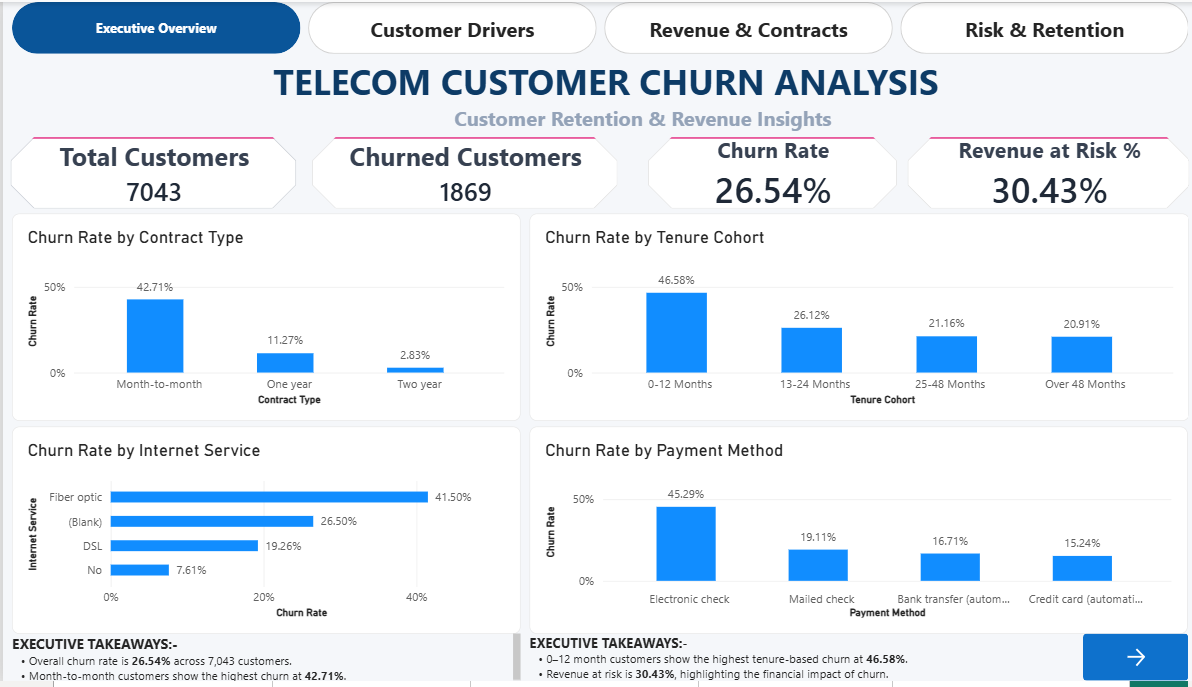

The dashboard page shown, as its layout file describes it:
{"tool":"powerbi","page":{"name":"Executive Overview","canvas":[1280,720],"ordinal":0},"visuals":[{"type":"textbox","box":[9,59,1259.8,82.7],"z":0},{"type":"cardVisual","title":"Total Customers","fields":{"Data":["_Measures.Total Customers"]},"box":[8,143,303.8,76.3],"z":1000},{"type":"cardVisual","title":"Churn Rate","fields":{"Data":["_Measures.Churn Rate"]},"box":[684,143.2,264,76.3],"z":2000},{"type":"cardVisual","title":"Revenue at Risk","fields":{"Data":["_Measures.Revenue at Risk %"]},"box":[959.1,143,300.6,76],"z":3000},{"type":"clusteredColumnChart","title":"Churn Rate by Contract Type","fields":{"Category":["telecom_churn vw_customer_churn_analysis.contract_type"],"Y":["_Measures.Churn Rate"]},"box":[9.5,224,539.2,220],"z":4000},{"type":"clusteredBarChart","title":"Churn Rate by Internet Service","fields":{"Category":["telecom_churn vw_customer_churn_analysis.internet_service"],"Y":["_Measures.Churn Rate"]},"box":[9.5,450,539.2,220],"z":5000},{"type":"clusteredColumnChart","title":"Churn Rate by Tenure Cohort","fields":{"Category":["telecom_churn vw_customer_churn_analysis.tenure_cohort"],"Y":["_Measures.Churn Rate"]},"box":[558.3,224,699.9,220],"z":6000},{"type":"clusteredColumnChart","title":"Churn Rate by Payment Method","fields":{"Category":["telecom_churn vw_customer_churn_analysis.payment_method"],"Y":["_Measures.Churn Rate"]},"box":[558,450,698.3,220],"z":7000},{"type":"pageNavigator","box":[9.7,0,1250,55.1],"z":8000},{"type":"actionButton","box":[1144.8,670.4,111.7,50.2],"z":9000},{"type":"textbox","box":[9.5,669.6,539.2,50.9],"z":10000},{"type":"textbox","box":[558.3,669.6,586.9,50.9],"z":11000},{"type":"cardVisual","title":"Churn Rate","fields":{"Data":["_Measures.Churned Customers"]},"box":[327.7,143.2,324.5,76.3],"z":12000}]}

Visuals, with their boxes in screenshot pixels (x1, y1, x2, y2), scaled from the page's 1280x720 canvas onto the 1192x687 screenshot:
textbox: [8, 56, 1182, 135]
"Total Customers" cardVisual: [7, 136, 290, 209]
"Churn Rate" cardVisual: [637, 137, 883, 209]
"Revenue at Risk" cardVisual: [893, 136, 1173, 209]
"Churn Rate by Contract Type" clusteredColumnChart: [9, 214, 511, 424]
"Churn Rate by Internet Service" clusteredBarChart: [9, 429, 511, 639]
"Churn Rate by Tenure Cohort" clusteredColumnChart: [520, 214, 1172, 424]
"Churn Rate by Payment Method" clusteredColumnChart: [520, 429, 1170, 639]
pageNavigator: [9, 0, 1173, 53]
actionButton: [1066, 640, 1170, 686]
textbox: [9, 639, 511, 686]
textbox: [520, 639, 1066, 686]
"Churn Rate" cardVisual: [305, 137, 607, 209]
